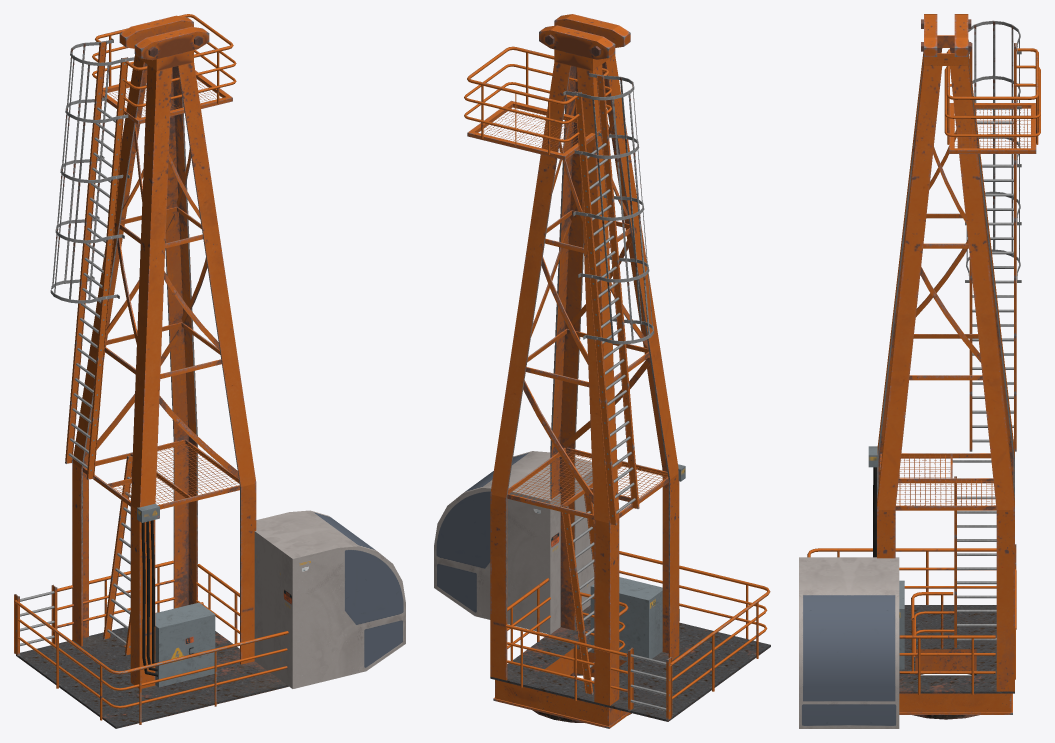
Rendered from CraneHead_02.fbx.
3 renders of one model, left to right at view 1: azimuth 30°, elevation 25°; view 2: azimuth 150°, elevation 25°; view 3: azimuth 270°, elevation 25°, orthographic. The views are drawn at different scales.
Visible parts, largest first — view 1: Crane_Head_02_LOD0; view 2: Crane_Head_02_LOD0; view 3: Crane_Head_02_LOD0.
Boxes of the visible parts, x1,y1,x2,y2 form: Crane_Head_02_LOD0: (14, 14, 405, 728); Crane_Head_02_LOD0: (434, 14, 770, 728); Crane_Head_02_LOD0: (799, 14, 1040, 728).
Size of what is drawn, in the model's own units: 5.08 by 11.01 by 3.62.
